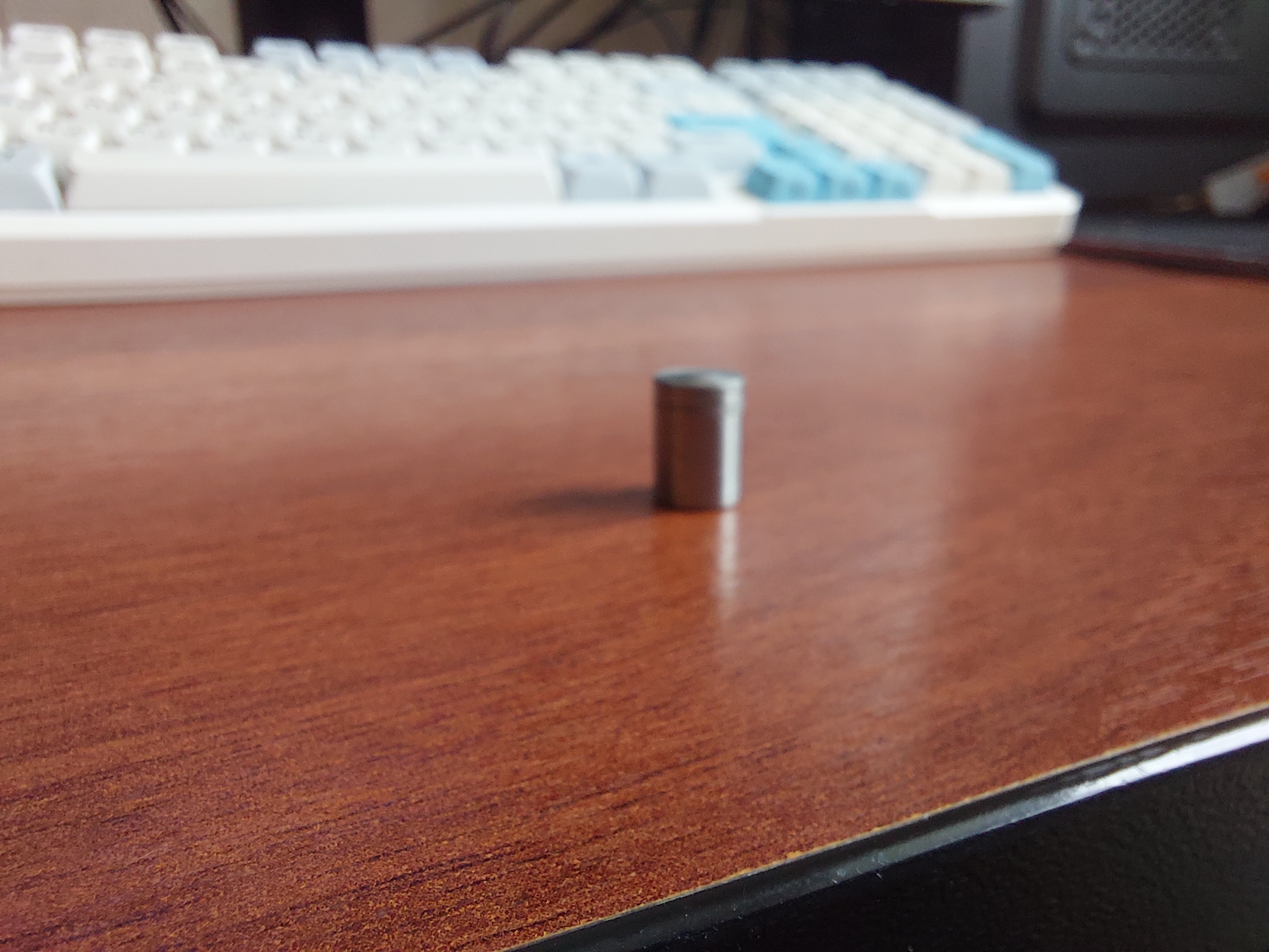tablet: (651, 365, 745, 513)
